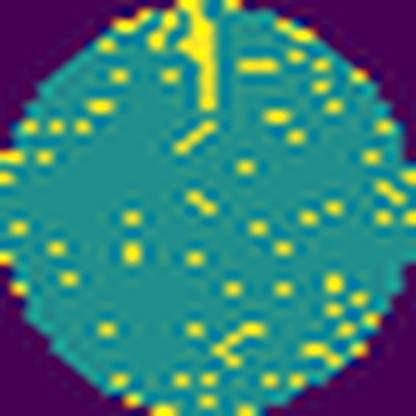Scratch: (171, 0, 223, 117), (171, 117, 223, 157)
